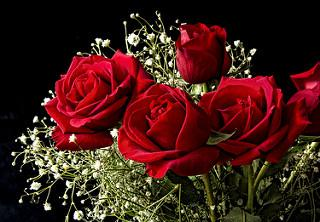Rose: (200, 69, 303, 179), (43, 47, 148, 153), (127, 84, 210, 187), (172, 17, 233, 87)
